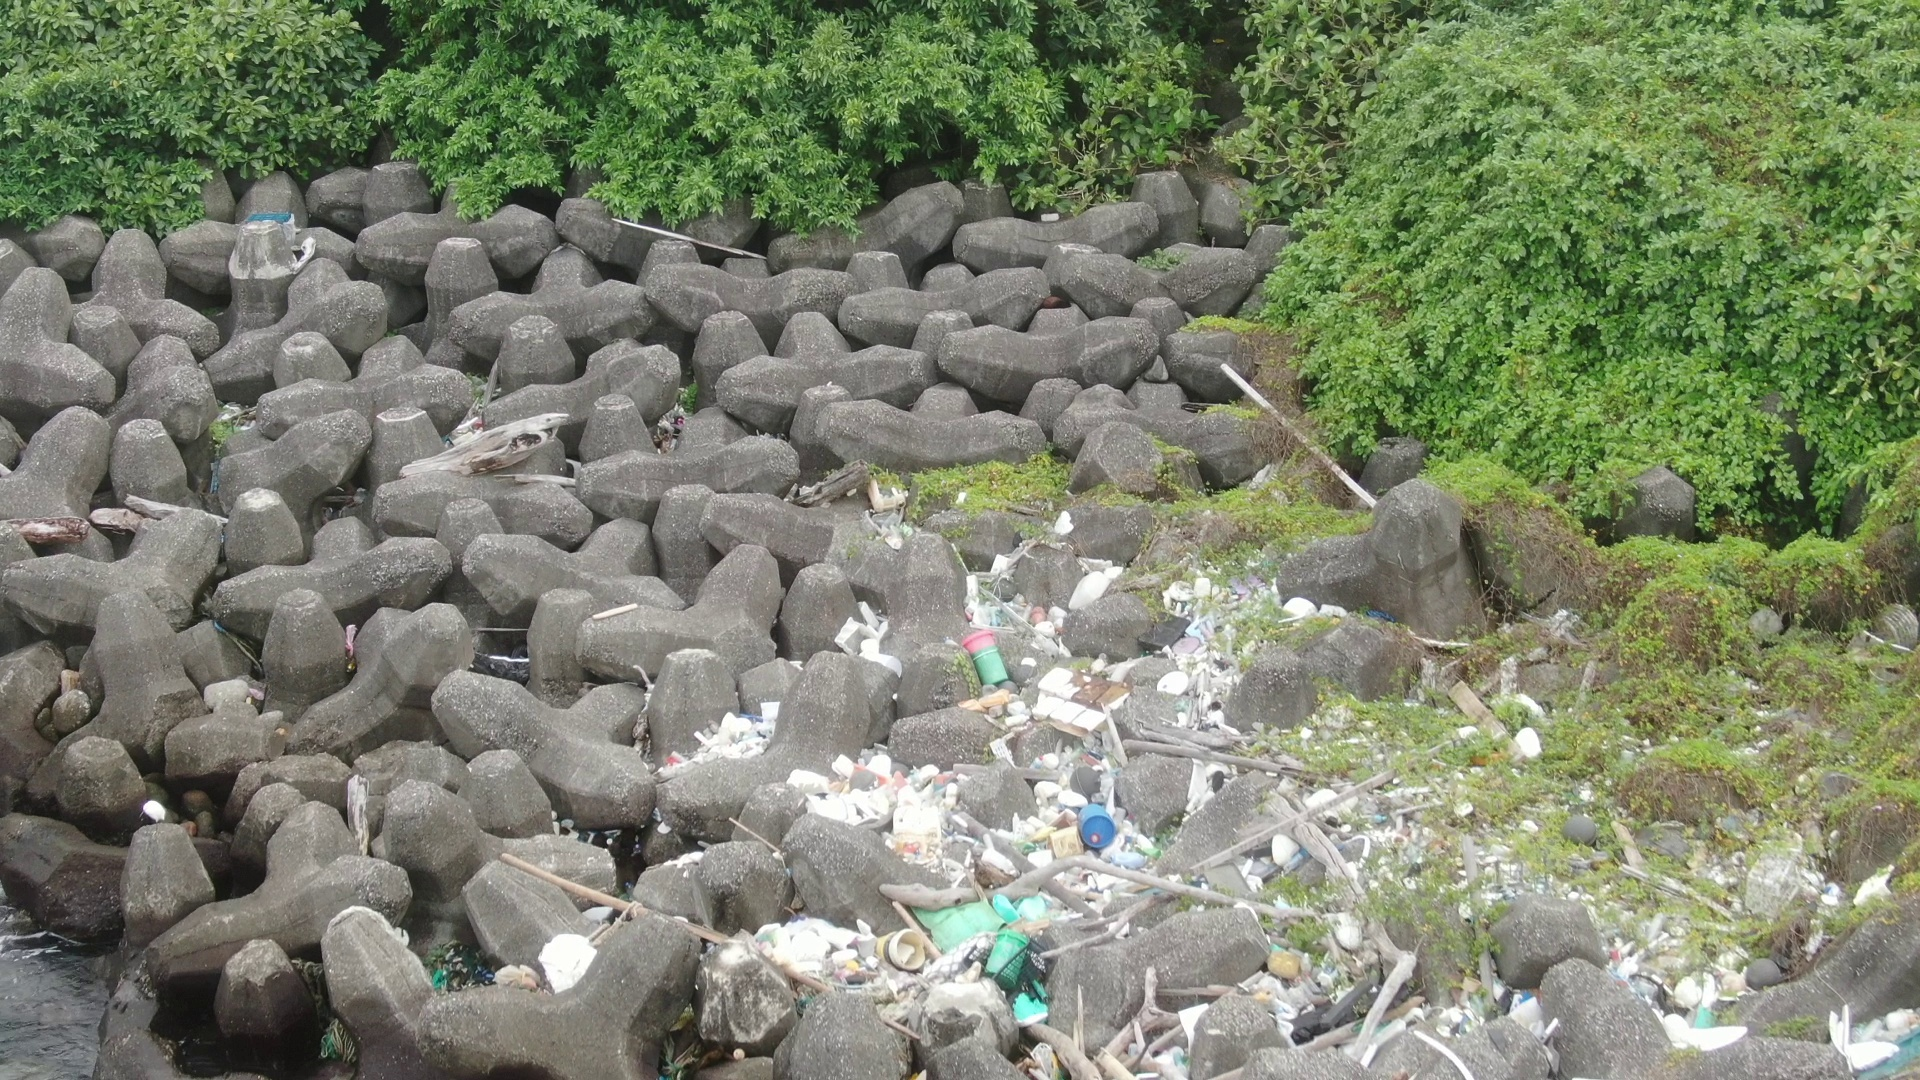garbage: (647, 510, 1552, 1079), (1609, 831, 1912, 1080), (411, 931, 489, 996), (233, 204, 307, 252), (318, 1006, 363, 1072), (655, 400, 694, 451), (338, 611, 361, 680)
